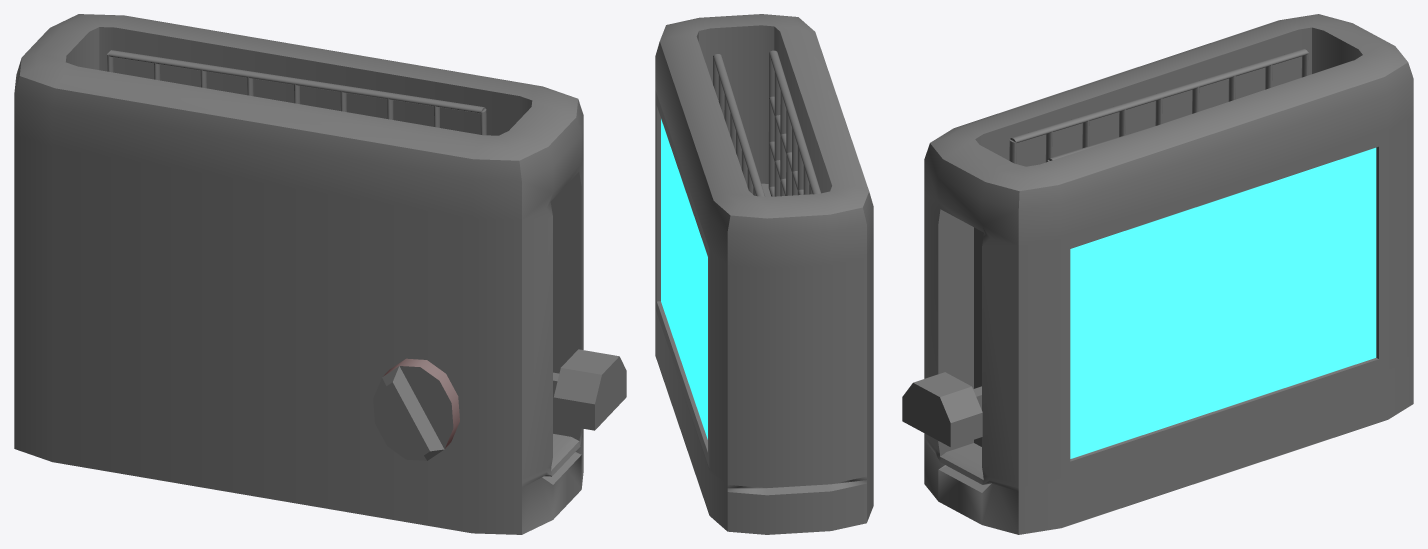
File: Monitor_Toaster.fbx
3 renders of one model, left to right at view 1: azimuth 30°, elevation 25°; view 2: azimuth 150°, elevation 25°; view 3: azimuth 270°, elevation 25°, orthographic. The views are drawn at different scales.
Parts seen in each view (by area): view 1: Box007; view 2: Box007; view 3: Box007.
Boxes of the visible parts, x1,y1,x2,y2 form: Box007: (14, 14, 626, 534); Box007: (655, 14, 873, 534); Box007: (902, 14, 1413, 534).
Bounding box in the file's own units: 54.69 × 47.98 × 64.1.
